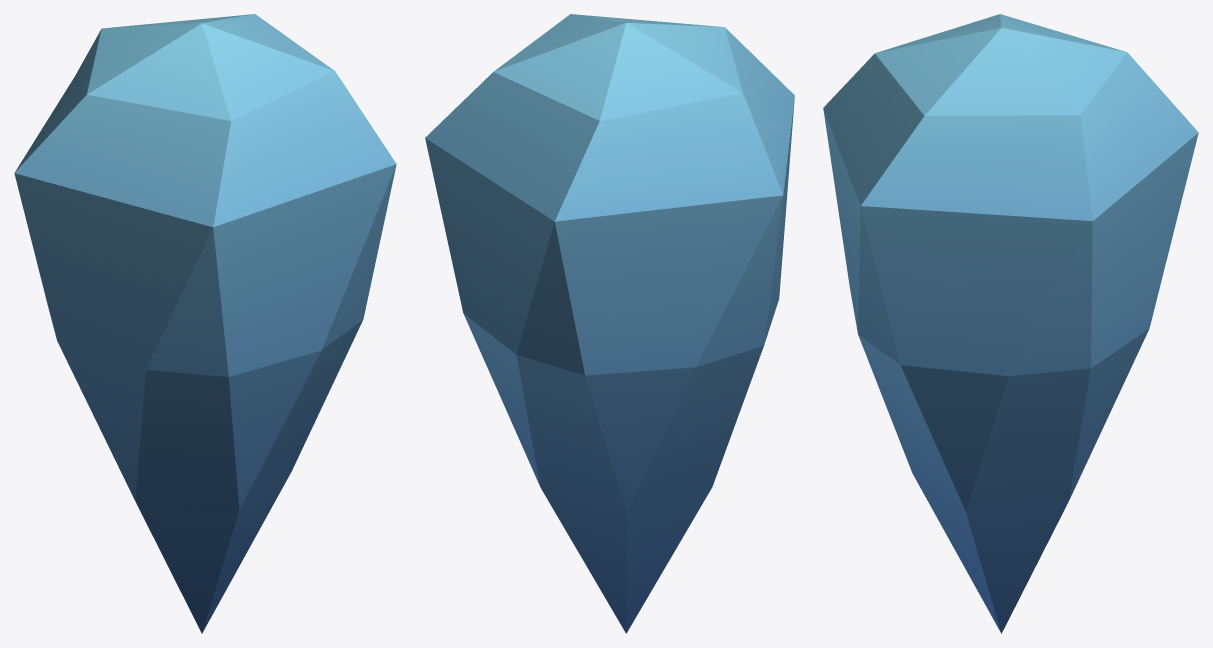
File: Shard.glb
The picture shows the model from 3 angles, left to right: view 1: azimuth 30°, elevation 25°; view 2: azimuth 150°, elevation 25°; view 3: azimuth 270°, elevation 25°; orthographic projection.
Parts seen in each view (by area): view 1: Icosphere; view 2: Icosphere; view 3: Icosphere.
Boxes of the visible parts, x1,y1,x2,y2 form: Icosphere: [14, 14, 396, 633]; Icosphere: [425, 14, 794, 633]; Icosphere: [823, 14, 1198, 633].
Bounding box in the file's own units: 0.533 × 0.9501 × 0.5336.
1 material, 1 textured.
